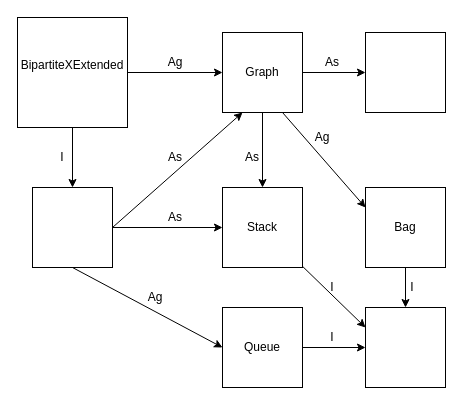
Some shapes in this 463 by 405 pixel diagram are drawn without their labels. Here are the shapes that lost their labels. From the top down, the centre of each, then its label:
the point at 405,72: In
the point at 72,227: BipartiteX
the point at 405,347: Iterable
